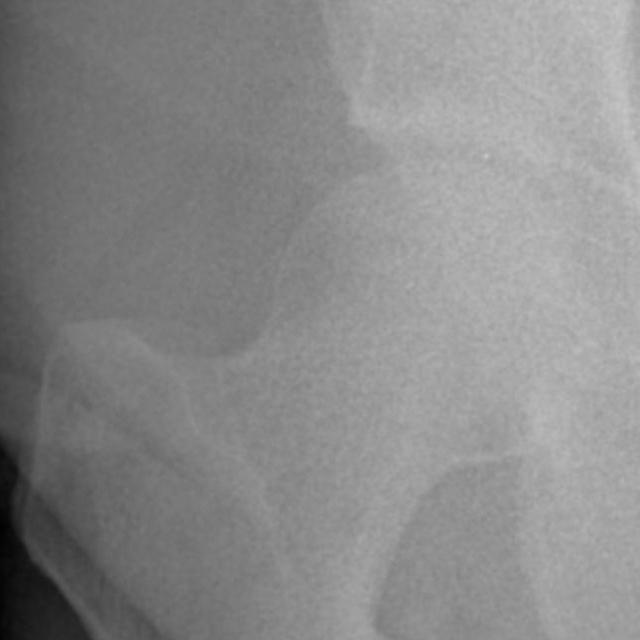Fitted_femural_head: (320, 160, 432, 320)
